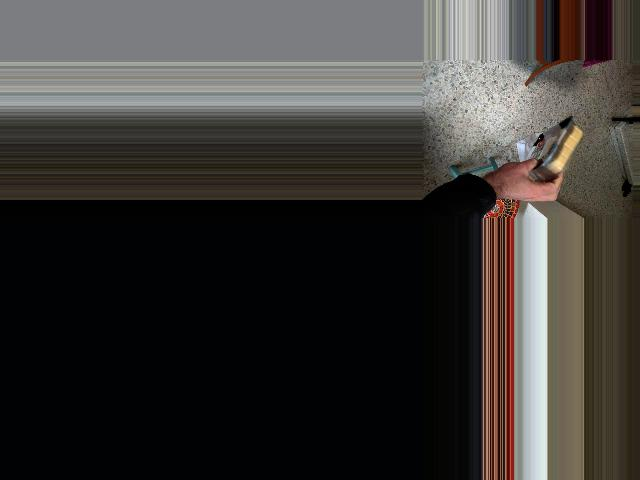cheese: (510, 103, 596, 211)
